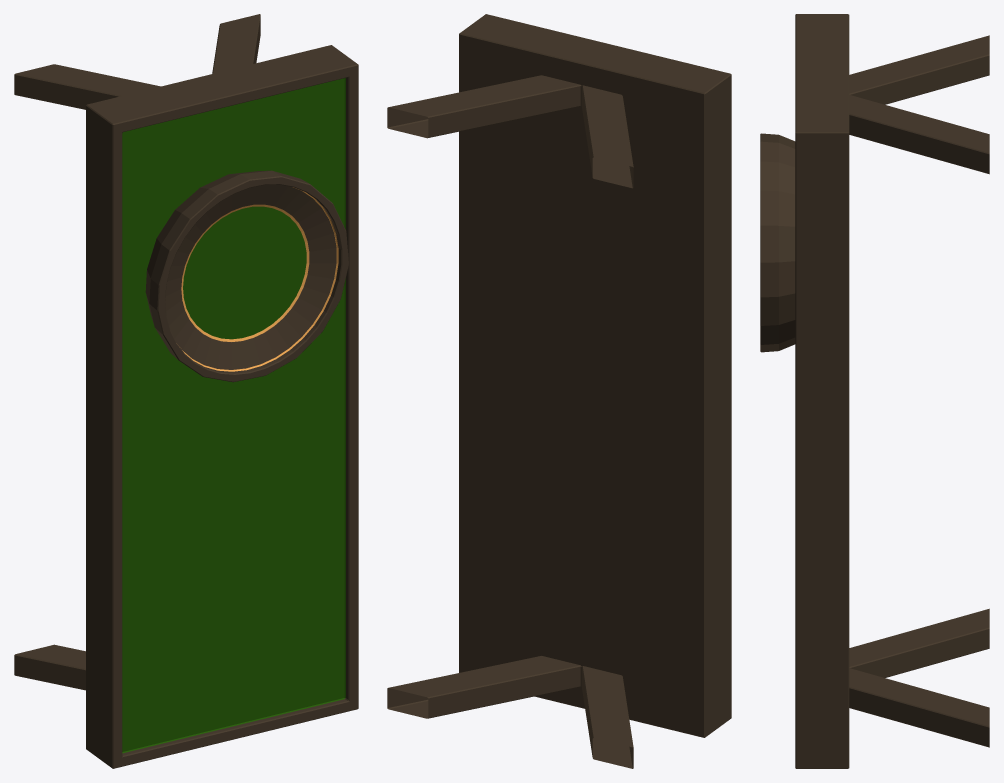
File: Table.glb
3 views of the same model, side by side, from view 1: azimuth 30°, elevation 25°; view 2: azimuth 150°, elevation 25°; view 3: azimuth 270°, elevation 25° (orthographic).
Visible parts, largest first — view 1: Table; view 2: Table; view 3: Table.
Boxes of the visible parts, box(x1,y1,x2,y2) form: Table: box(14, 14, 358, 768); Table: box(387, 14, 731, 768); Table: box(760, 14, 989, 768).
Size of the model in its own units: 1.2 by 3 by 0.98.
1 material, 1 textured.
